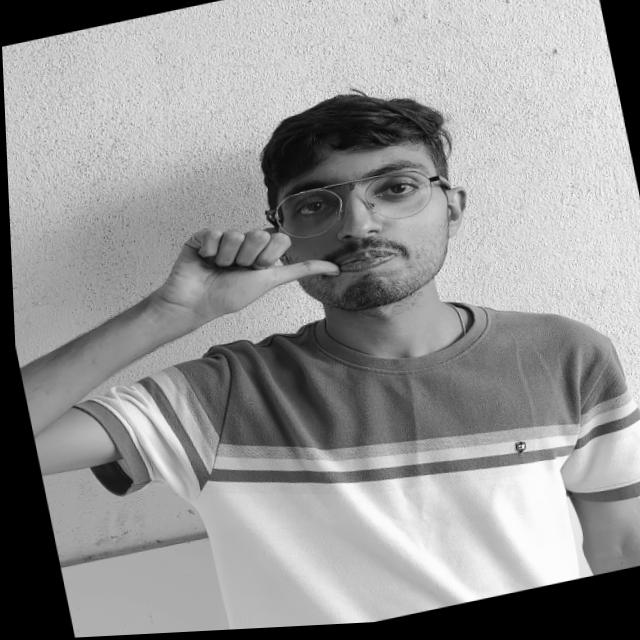Drink: (137, 196, 349, 342)
